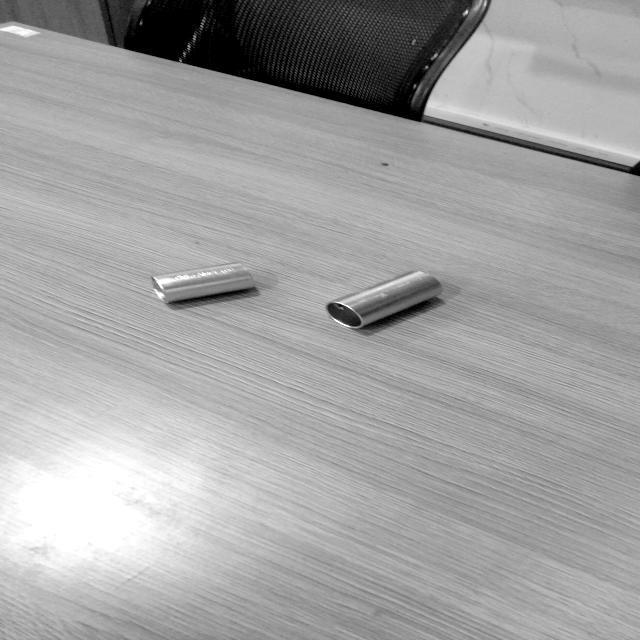Co_Lon: (325, 260, 444, 338)
Co_Nho: (151, 259, 255, 306)
